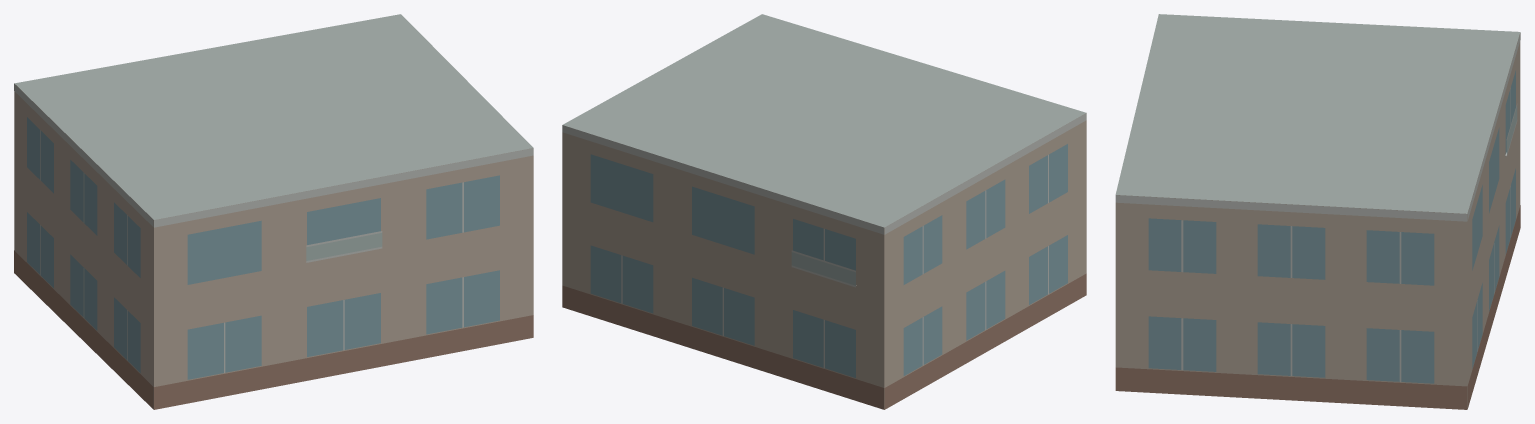
The model's file is survey-upis-33024763.glb.
The picture shows the model from 3 angles, left to right: view 1: azimuth 30°, elevation 25°; view 2: azimuth 150°, elevation 25°; view 3: azimuth 270°, elevation 25°; orthographic projection. The views are drawn at different scales.
Parts seen in each view (by area): view 1: survey-upis-33024763.tmp; view 2: survey-upis-33024763.tmp; view 3: survey-upis-33024763.tmp.
Part boxes in pixels (x1,y1,x2,y2): survey-upis-33024763.tmp: (14,14,533,409); survey-upis-33024763.tmp: (562,14,1086,409); survey-upis-33024763.tmp: (1115,14,1520,409).
Size of the model in its own units: 13.35 by 6.1 by 11.43.
